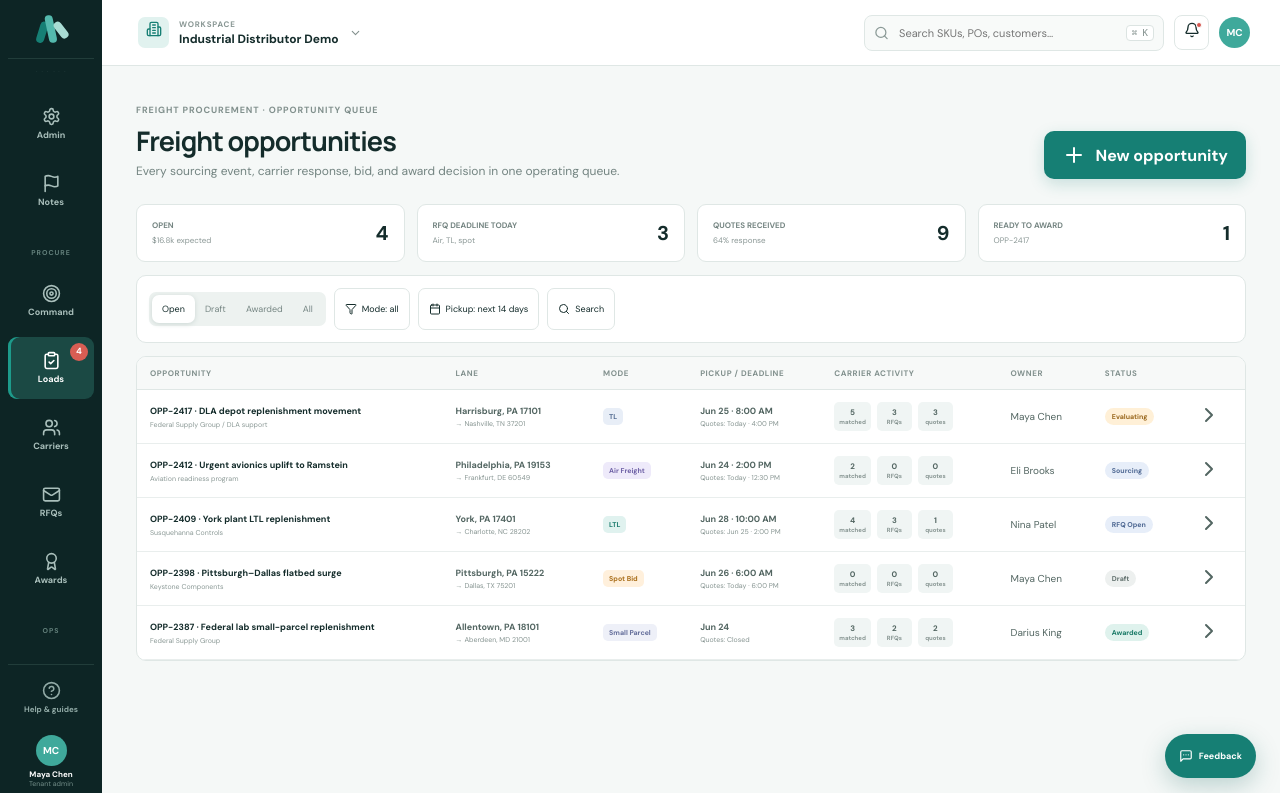
ControlTower › creates an opportunity and immediately ranks carriers
(page scrolled)
Click the button "New opportunity": (1145,155) x1=1044 y1=131 x2=1246 y2=179
(page scrolled)
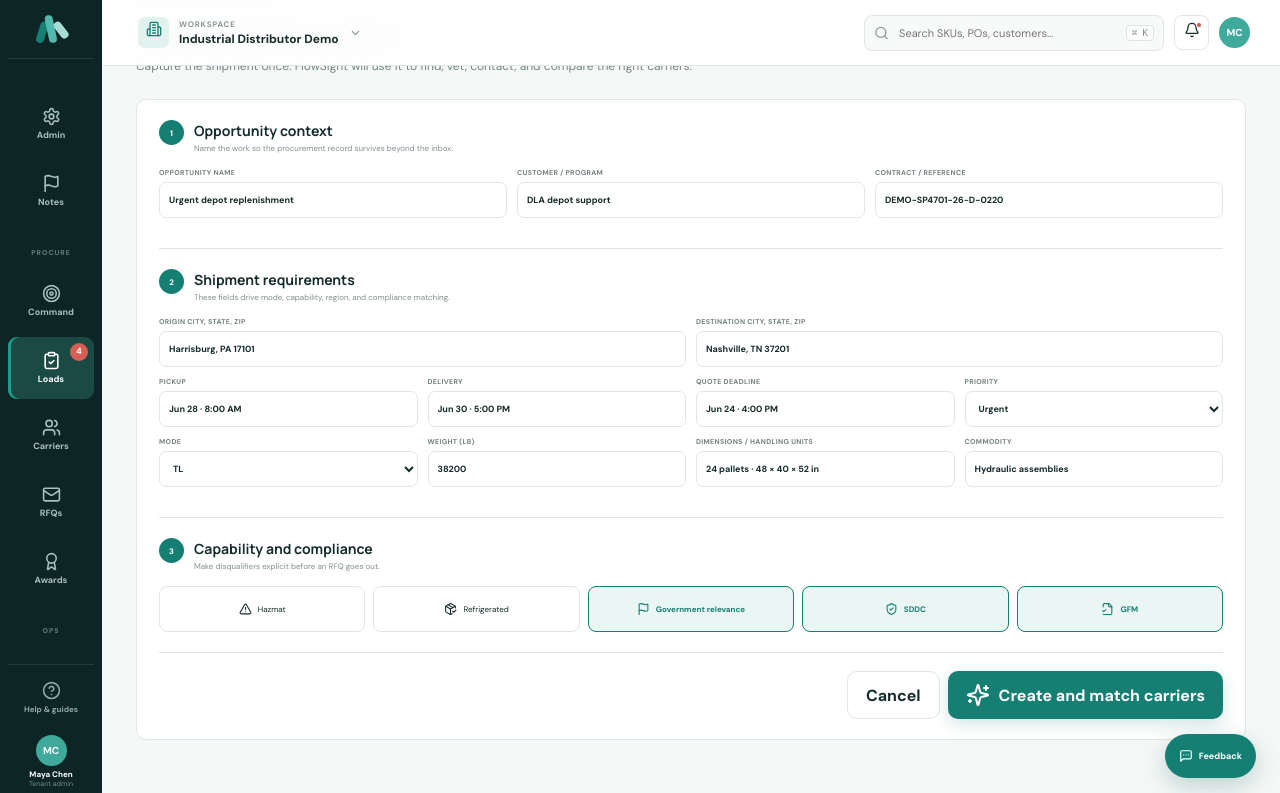
Check: the heading "What needs to move?" is shown, box x1=136 y1=17 x2=399 y2=54
Click the button "Create and match carriers": (1085,695) x1=948 y1=671 x2=1223 y2=719
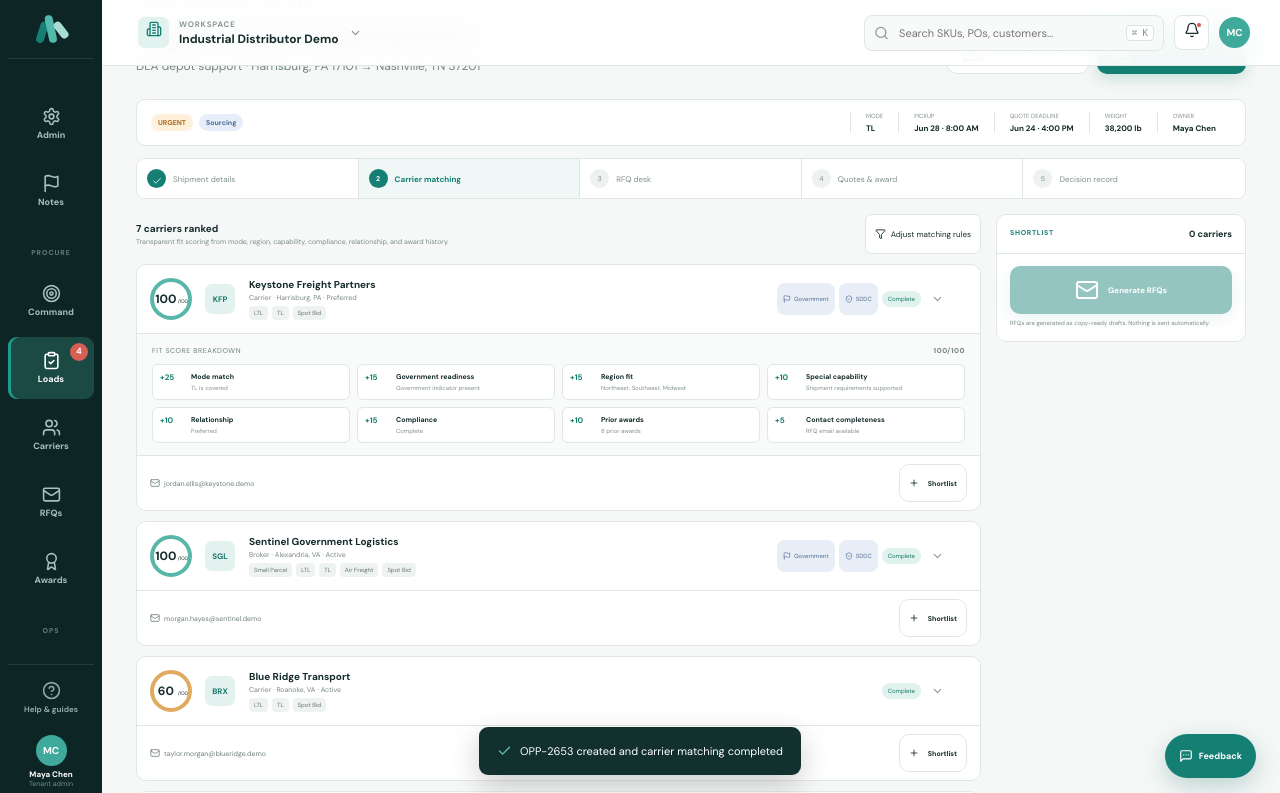
Check: the heading "Urgent depot replenishment" is shown, box x1=136 y1=17 x2=481 y2=54
Check: the text "7 carriers ranked" is shown, box x1=136 y1=222 x2=218 y2=235
Check: the text "FIT SCORE BREAKDOWN" is shown, box x1=152 y1=346 x2=241 y2=355
